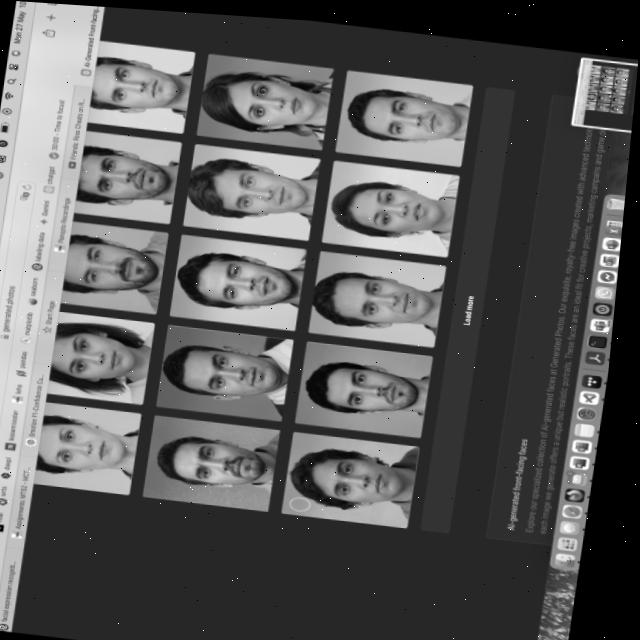natural: (202, 61, 325, 133)
